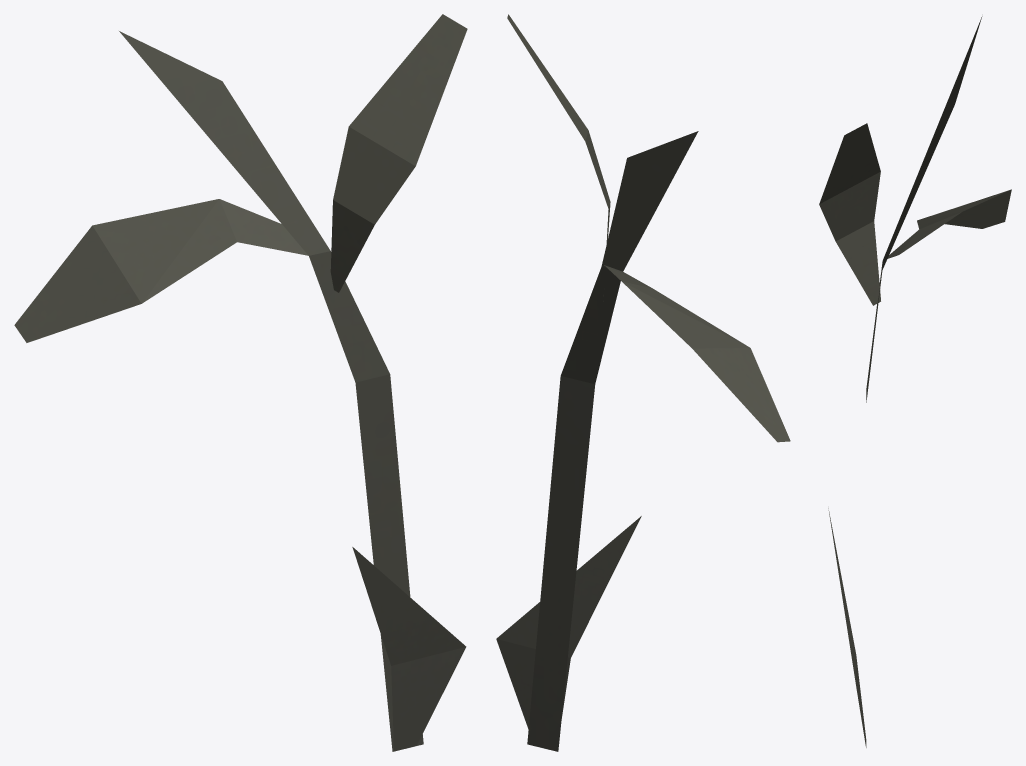
File: Sap01.fbx
3 renders of one model, left to right at view 1: azimuth 30°, elevation 25°; view 2: azimuth 150°, elevation 25°; view 3: azimuth 270°, elevation 25°, orthographic. The views are drawn at different scales.
Parts seen in each view (by area): view 1: SM_ENV_Nature_GeneralFoliageSet_Sapling01.mo; view 2: SM_ENV_Nature_GeneralFoliageSet_Sapling01.mo; view 3: SM_ENV_Nature_GeneralFoliageSet_Sapling01.mo.
Boxes of the visible parts, x1,y1,x2,y2 form: SM_ENV_Nature_GeneralFoliageSet_Sapling01.mo: (14,14,467,751); SM_ENV_Nature_GeneralFoliageSet_Sapling01.mo: (496,14,790,751); SM_ENV_Nature_GeneralFoliageSet_Sapling01.mo: (819,16,1011,747).
Size of the model in its own units: 37.25 by 70.16 by 19.23.
1 material, 1 textured.
